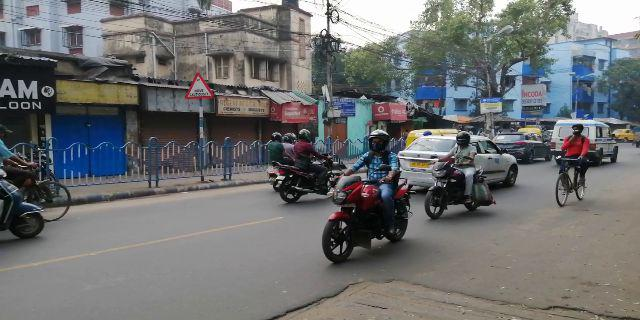Car: (398, 135, 519, 187)
Cycle: (552, 125, 588, 208)
Motorbike: (321, 132, 417, 262), (420, 131, 491, 219), (277, 130, 340, 204)
